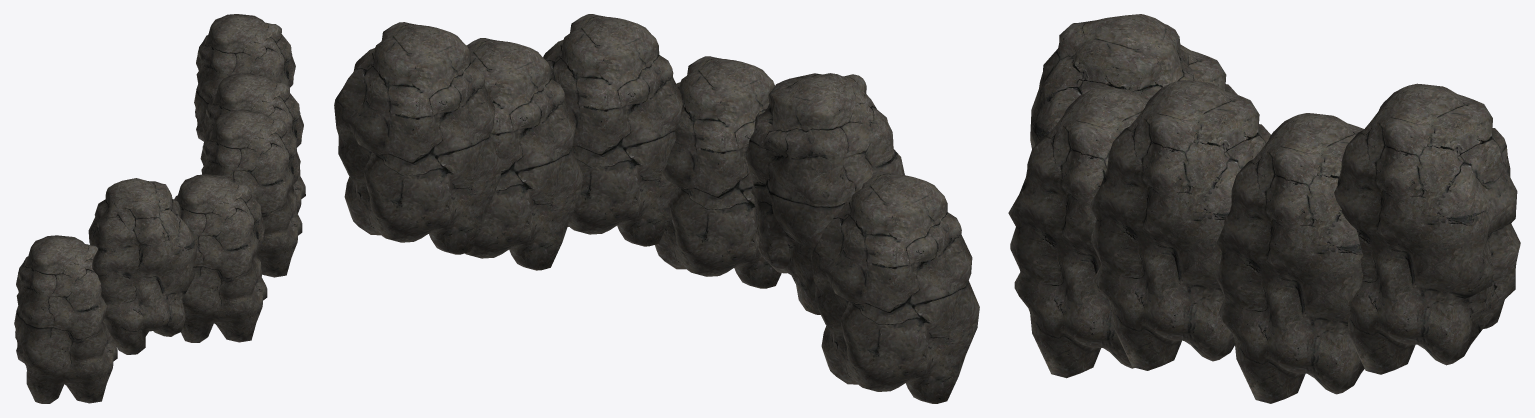
Rendered from TwinPeakRocksShape21.dae.
3 views of the same model, side by side, from view 1: azimuth 30°, elevation 25°; view 2: azimuth 150°, elevation 25°; view 3: azimuth 270°, elevation 25° (orthographic). The views are drawn at different scales.
Parts seen in each view (by area): view 1: TwinPeakRocks21; view 2: TwinPeakRocks21; view 3: TwinPeakRocks21.
Boxes of the visible parts, x1,y1,x2,y2 form: TwinPeakRocks21: [14, 14, 305, 403]; TwinPeakRocks21: [334, 14, 979, 403]; TwinPeakRocks21: [1008, 14, 1520, 403].
Bounding box in the file's own units: 145 × 99.94 × 107.
